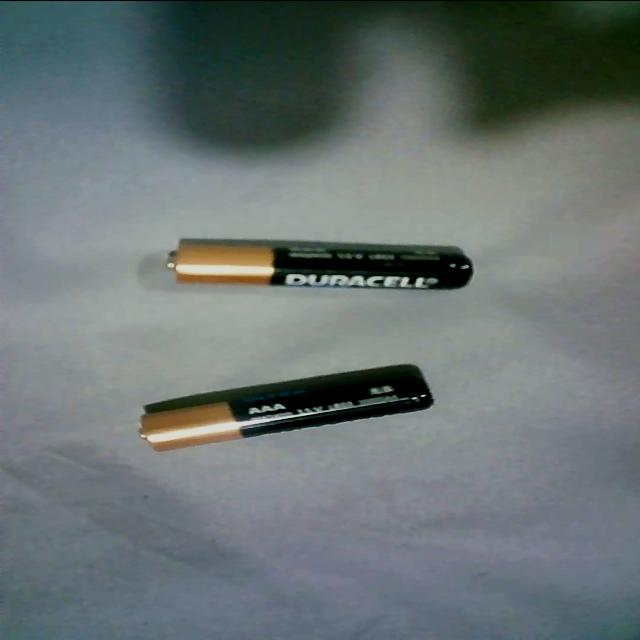AAA: (126, 365, 444, 451), (159, 238, 475, 292)
